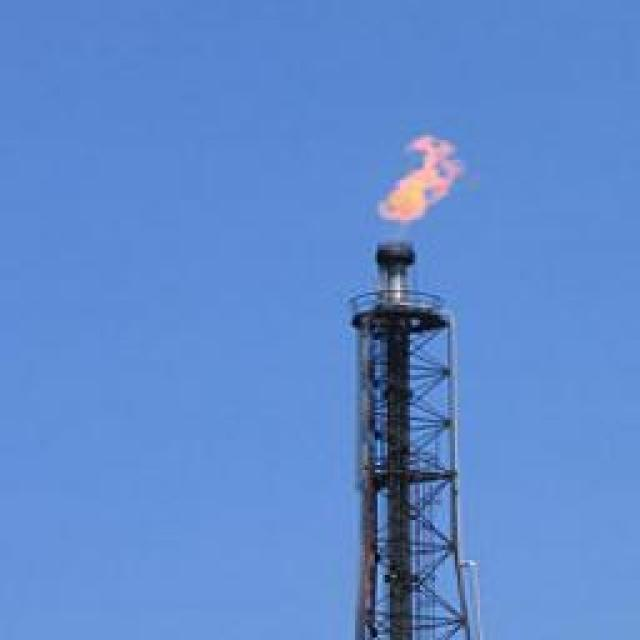fire: (375, 135, 464, 221)
